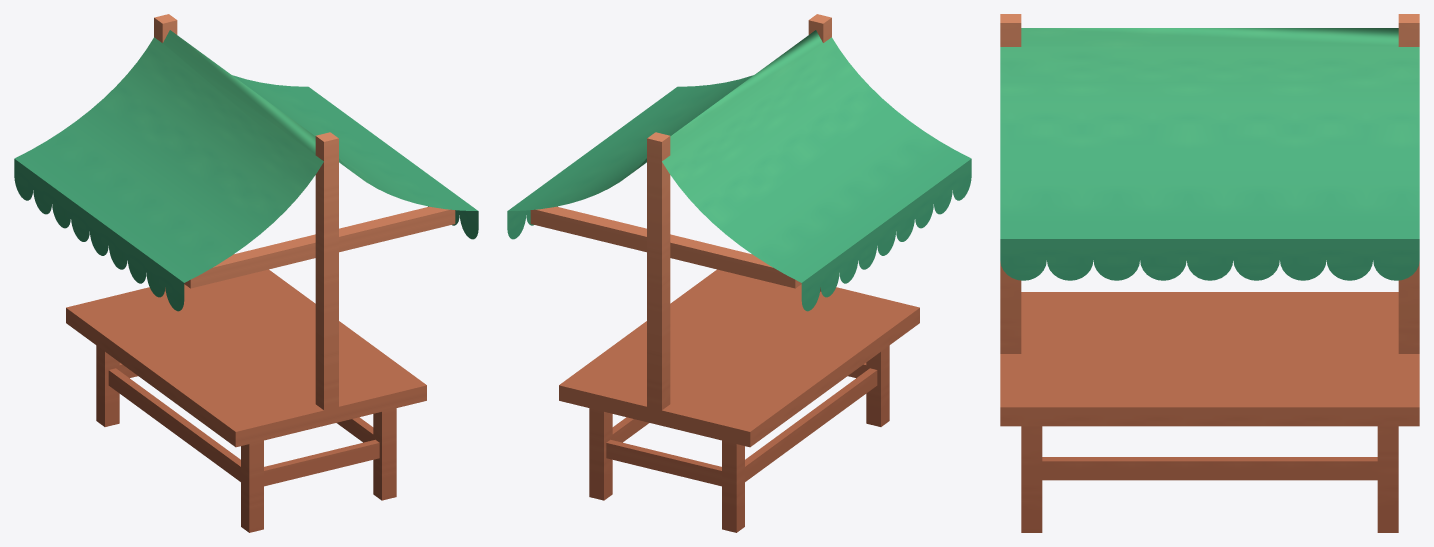
The model's file is stallGreen.fbx.
The picture shows the model from 3 angles, left to right: view 1: azimuth 30°, elevation 25°; view 2: azimuth 150°, elevation 25°; view 3: azimuth 270°, elevation 25°; orthographic projection. The views are drawn at different scales.
Parts seen in each view (by area): view 1: stallGreen; view 2: stallGreen; view 3: stallGreen.
Part boxes in pixels (box(x1,y1,x2,y2)): stallGreen: box(14, 14, 478, 532); stallGreen: box(507, 14, 971, 532); stallGreen: box(1000, 14, 1419, 532).
Bounding box in the file's own units: 1 × 1 × 1.24.
